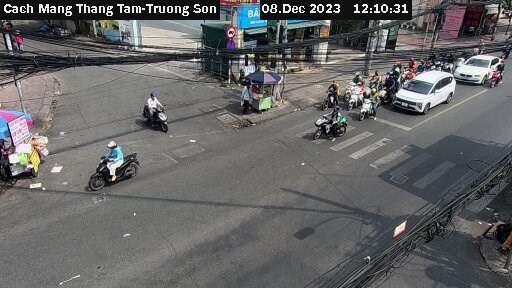car: (394, 68, 455, 115), (456, 52, 501, 90)
motorbike: (85, 140, 152, 186), (131, 89, 190, 136), (308, 106, 353, 142), (357, 91, 388, 119), (314, 80, 344, 104), (488, 64, 510, 86)
